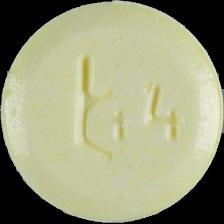0555-0344: (0, 0, 224, 224)
